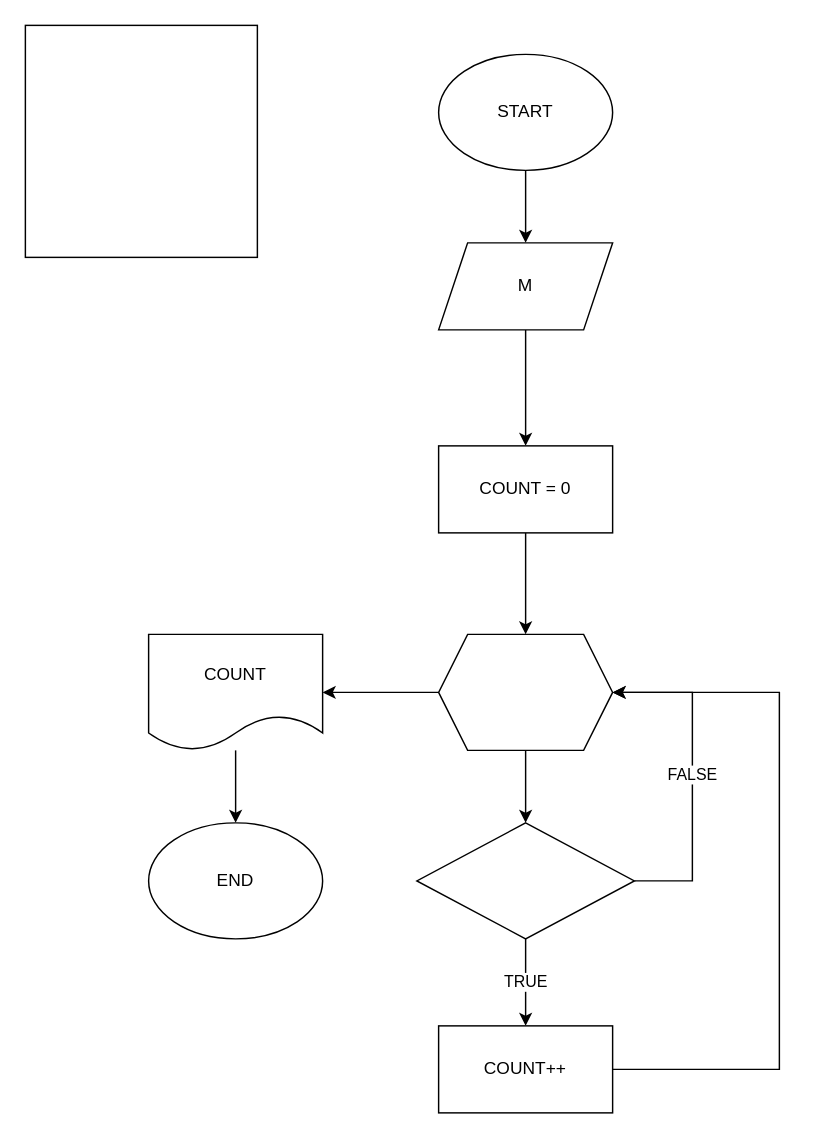
The diagram is 816 pixels wide and 1138 high, and some of its shapes have lost their labels. Each missing label, with the centre of its shape:
1-dən M-ədək ədədlər içərisində 15-ə bölünən ədədlərin sayını tapan alqoritm: the point at 140,140
num % 15 == 0: the point at 524,880
num = 1; num < M; num++: the point at 525,691
